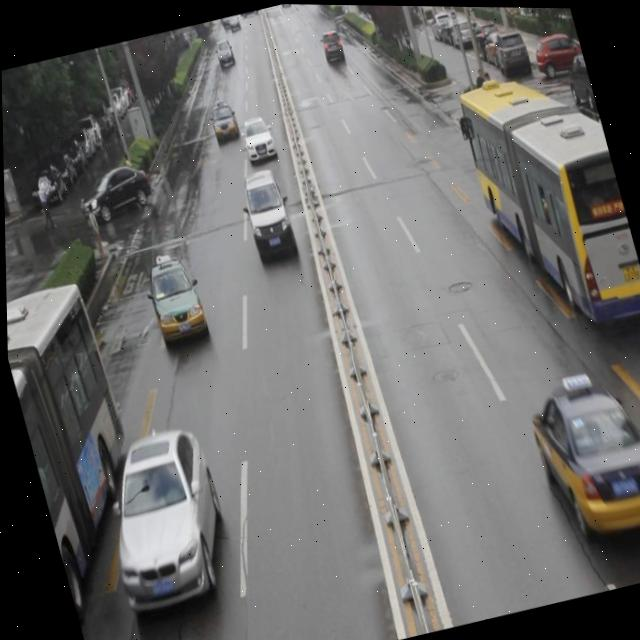car: (90, 423, 239, 612), (514, 351, 640, 546), (139, 254, 211, 350), (72, 160, 155, 225), (236, 111, 279, 165), (205, 99, 244, 147)
truck: (235, 166, 297, 258)
van: (446, 58, 640, 351), (5, 280, 160, 598)
